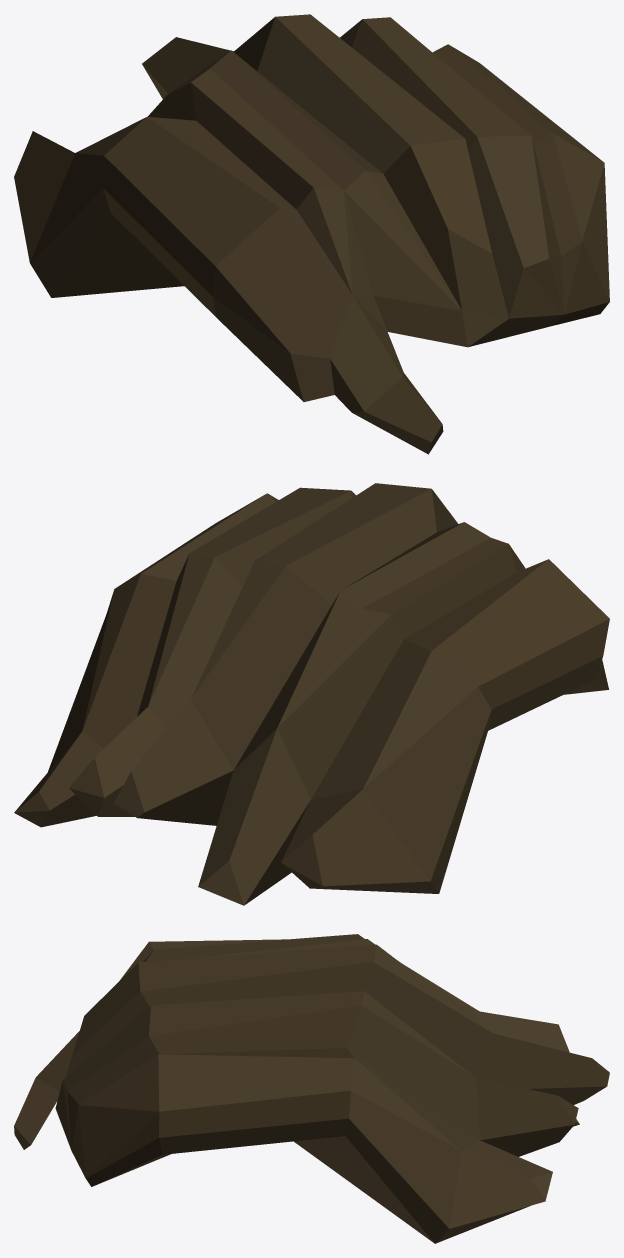
File: Chr_Hair_06_Static.fbx
3 renders of one model, top to bottom at view 1: azimuth 30°, elevation 25°; view 2: azimuth 150°, elevation 25°; view 3: azimuth 270°, elevation 25°, orthographic. The views are drawn at different scales.
Parts seen in each view (by area): view 1: Chr_Hair_06_Static; view 2: Chr_Hair_06_Static; view 3: Chr_Hair_06_Static.
Part boxes in pixels (left/top/right/bottom): Chr_Hair_06_Static: left=14, top=14, right=609, bottom=454; Chr_Hair_06_Static: left=14, top=483, right=609, bottom=905; Chr_Hair_06_Static: left=14, top=934, right=609, bottom=1243.
Size of the model in its own units: 0.2179 by 0.1418 by 0.3351.
